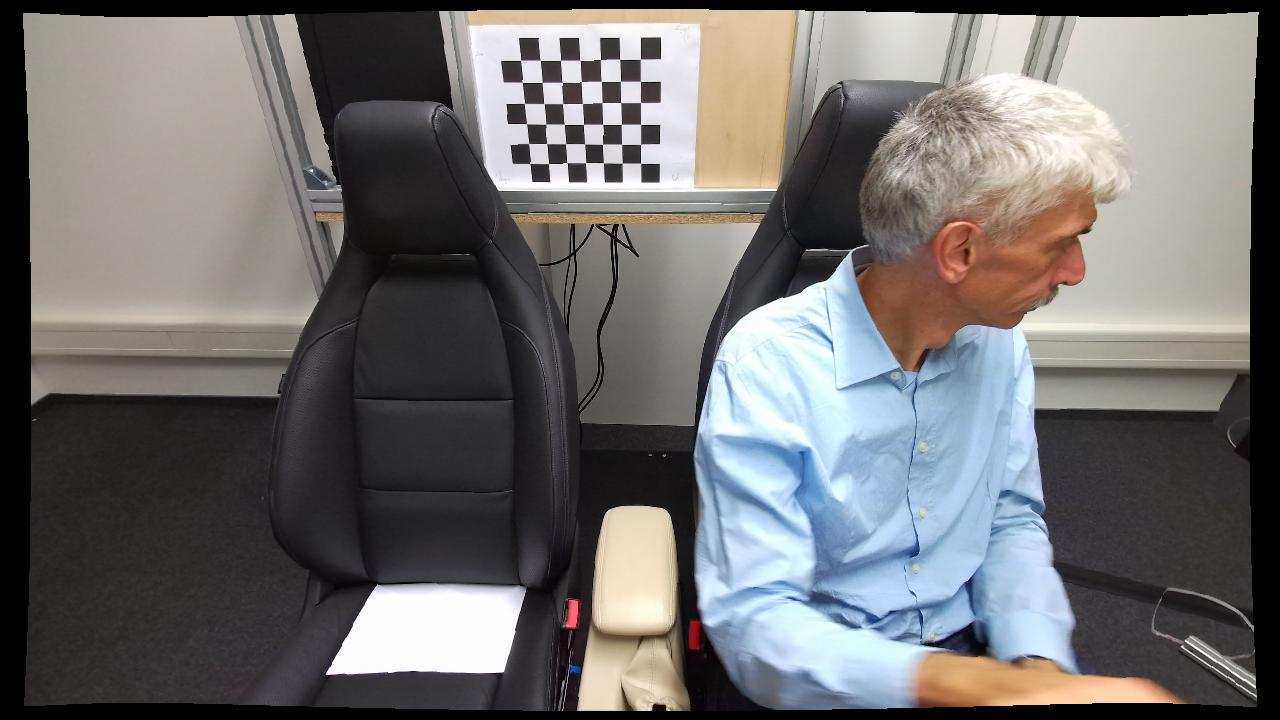Distracted: (694, 69, 1136, 713)
